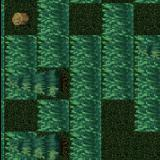Obstacle: (4, 2, 36, 34), (36, 67, 68, 99), (36, 133, 66, 160)
Slow: (68, 35, 100, 160), (102, 2, 132, 100), (134, 35, 160, 131), (36, 0, 69, 66), (4, 35, 36, 99), (36, 100, 68, 132), (3, 132, 36, 160)
